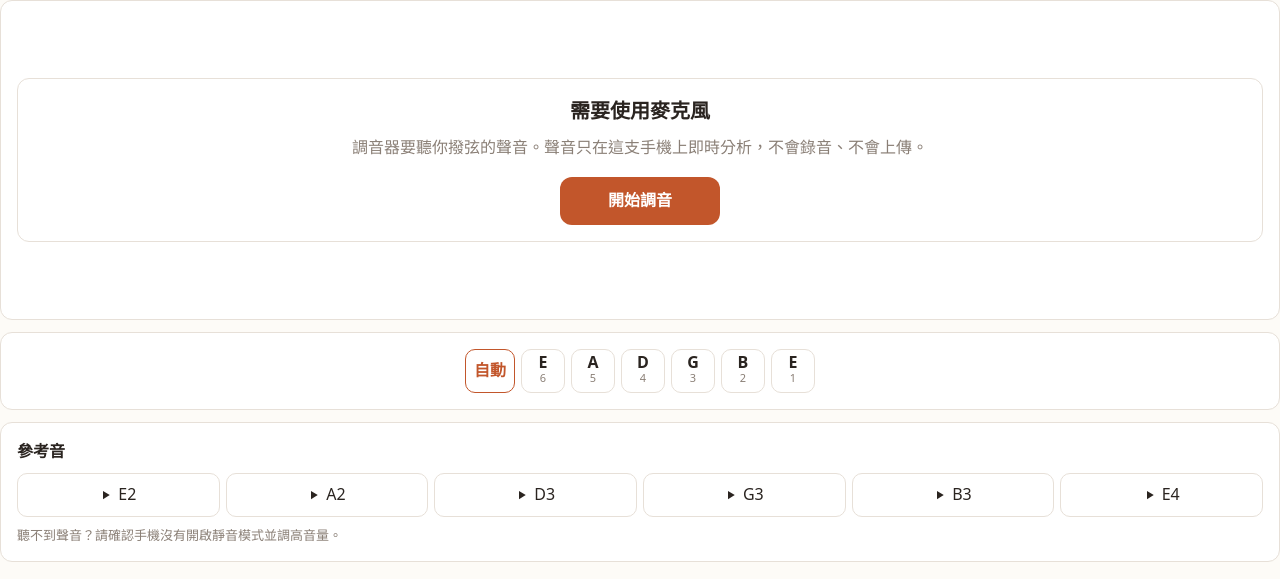
Scenario: TunerPanel phases (TUN-50–59) › NotFoundError shows its copy, retry and reference tones
The image size is (1280, 579).
Click the button with test id "tuner-start". click: (640, 201)
box: [560,177,720,225]
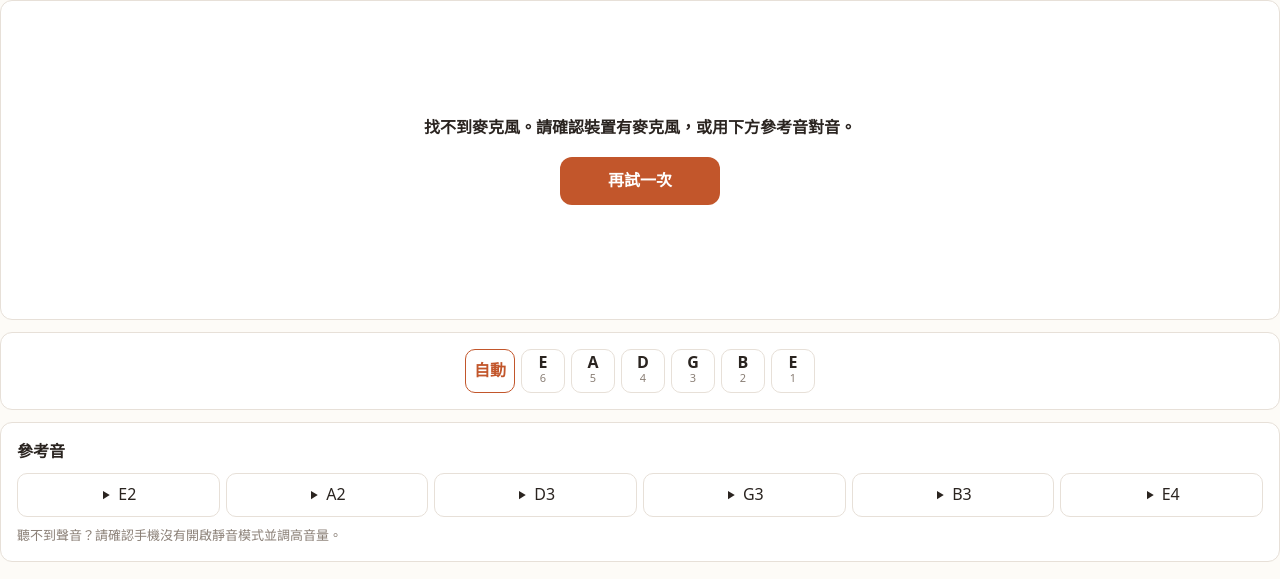
Expected: the element with test id "tuner-reference" is shown, [17,439,1263,545]
Expected: the text "找不到麥克風。請確認裝置有麥克風，或用下方參考音對音。" is shown, [424,116,856,138]
Expected: the button with test id "tuner-retry" reads "再試一次", [560,157,720,205]
